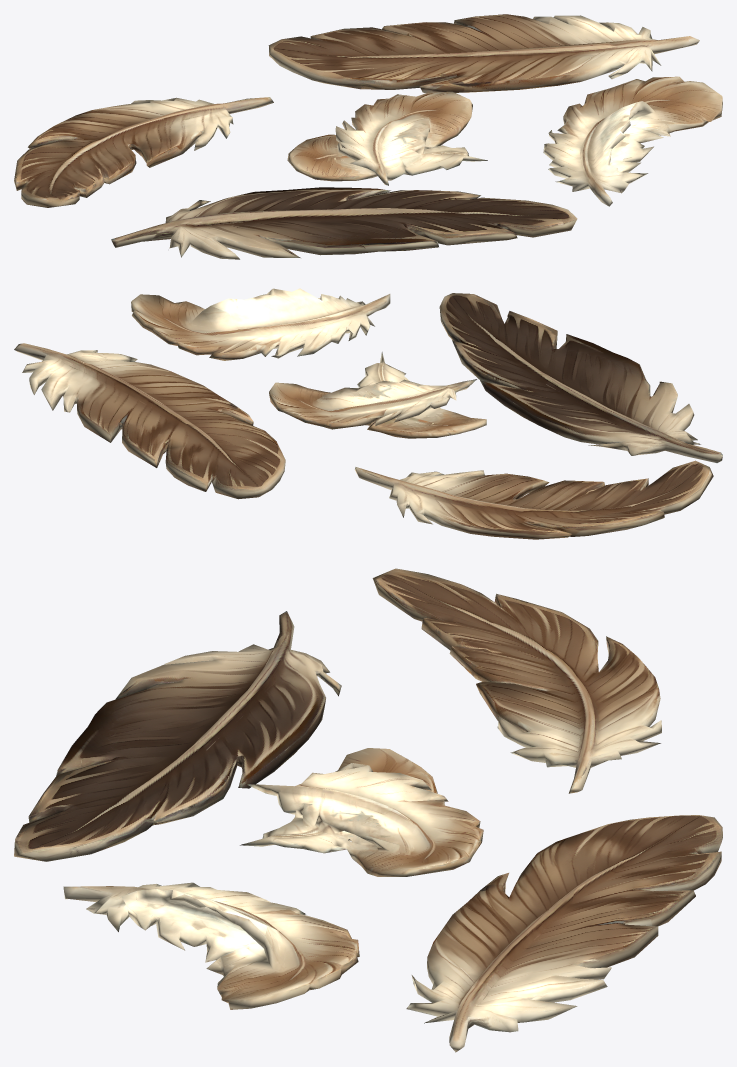
The picture shows the model from 3 angles, top to bottom: view 1: azimuth 30°, elevation 25°; view 2: azimuth 150°, elevation 25°; view 3: azimuth 270°, elevation 25°; orthographic projection. The views are drawn at different scales.
Parts seen in each view (by area): view 1: Mesh_0; view 2: Mesh_0; view 3: Mesh_0.
Boxes of the visible parts, x1=… form: Mesh_0: x1=14, y1=14, x2=722, y2=259; Mesh_0: x1=14, y1=288, x2=722, y2=539; Mesh_0: x1=14, y1=568, x2=722, y2=1052.
Size of the model in its own units: 1.91 by 0.1043 by 1.27.
Materials: 1 (1 with a texture image).
